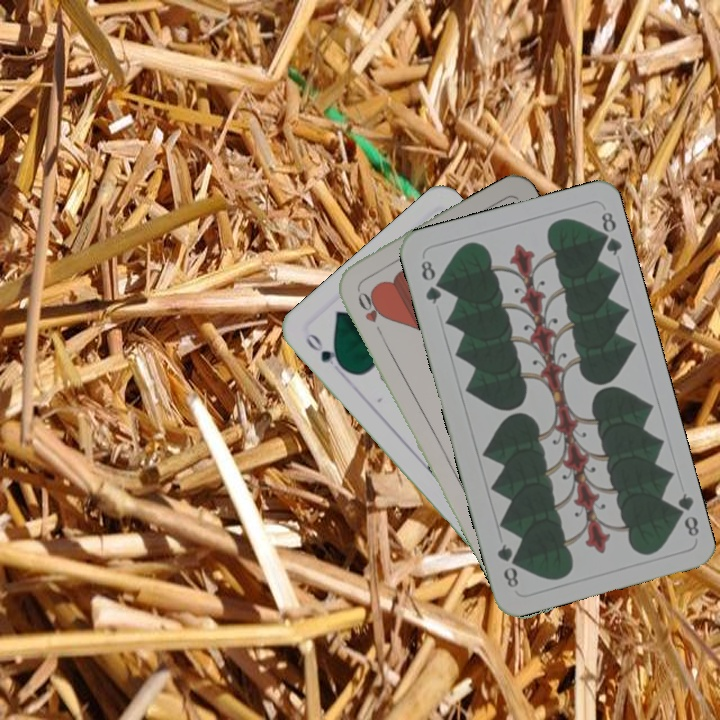G8: (668, 489, 702, 539), (416, 256, 444, 307)
GO: (301, 329, 349, 373)
HO: (353, 285, 386, 339)
